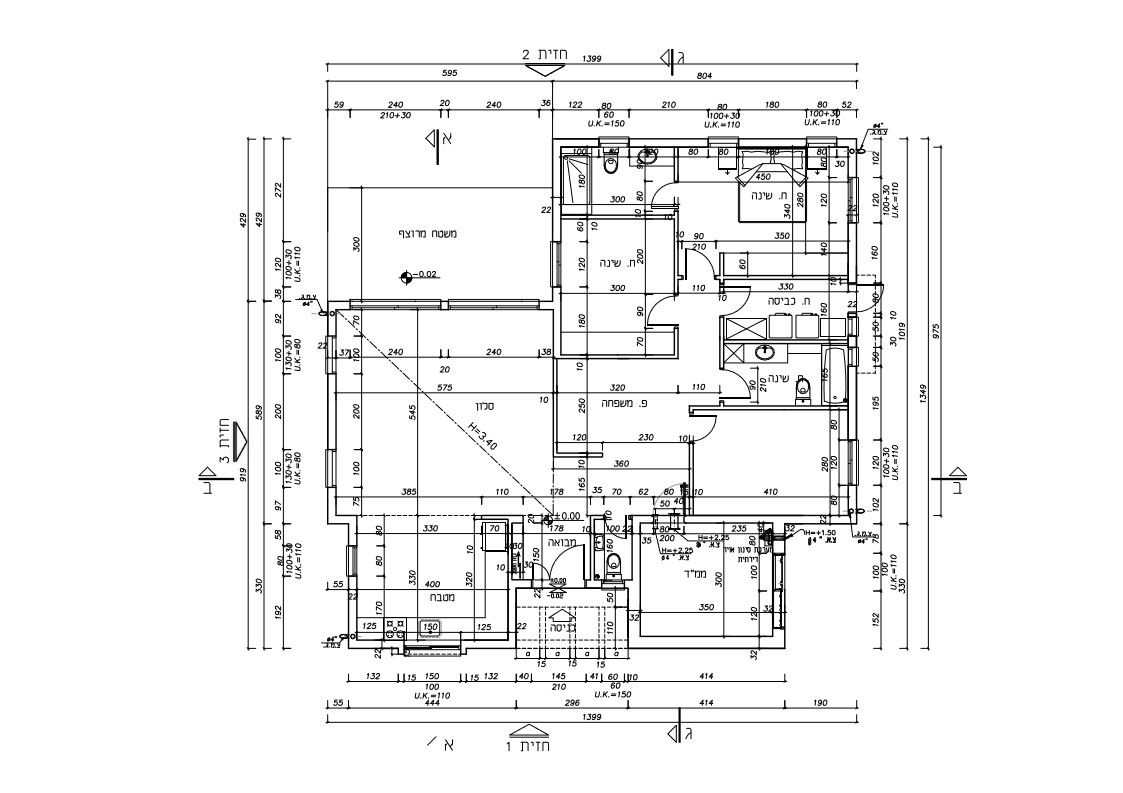door: (644, 294, 673, 334), (681, 245, 716, 277), (723, 282, 758, 314), (721, 368, 756, 400), (692, 412, 727, 444)
window: (349, 298, 441, 310), (447, 298, 539, 310), (402, 643, 460, 656), (847, 176, 861, 223), (325, 335, 337, 373), (325, 448, 337, 486), (346, 545, 358, 577), (599, 135, 631, 145), (708, 137, 740, 147), (805, 136, 837, 146)
